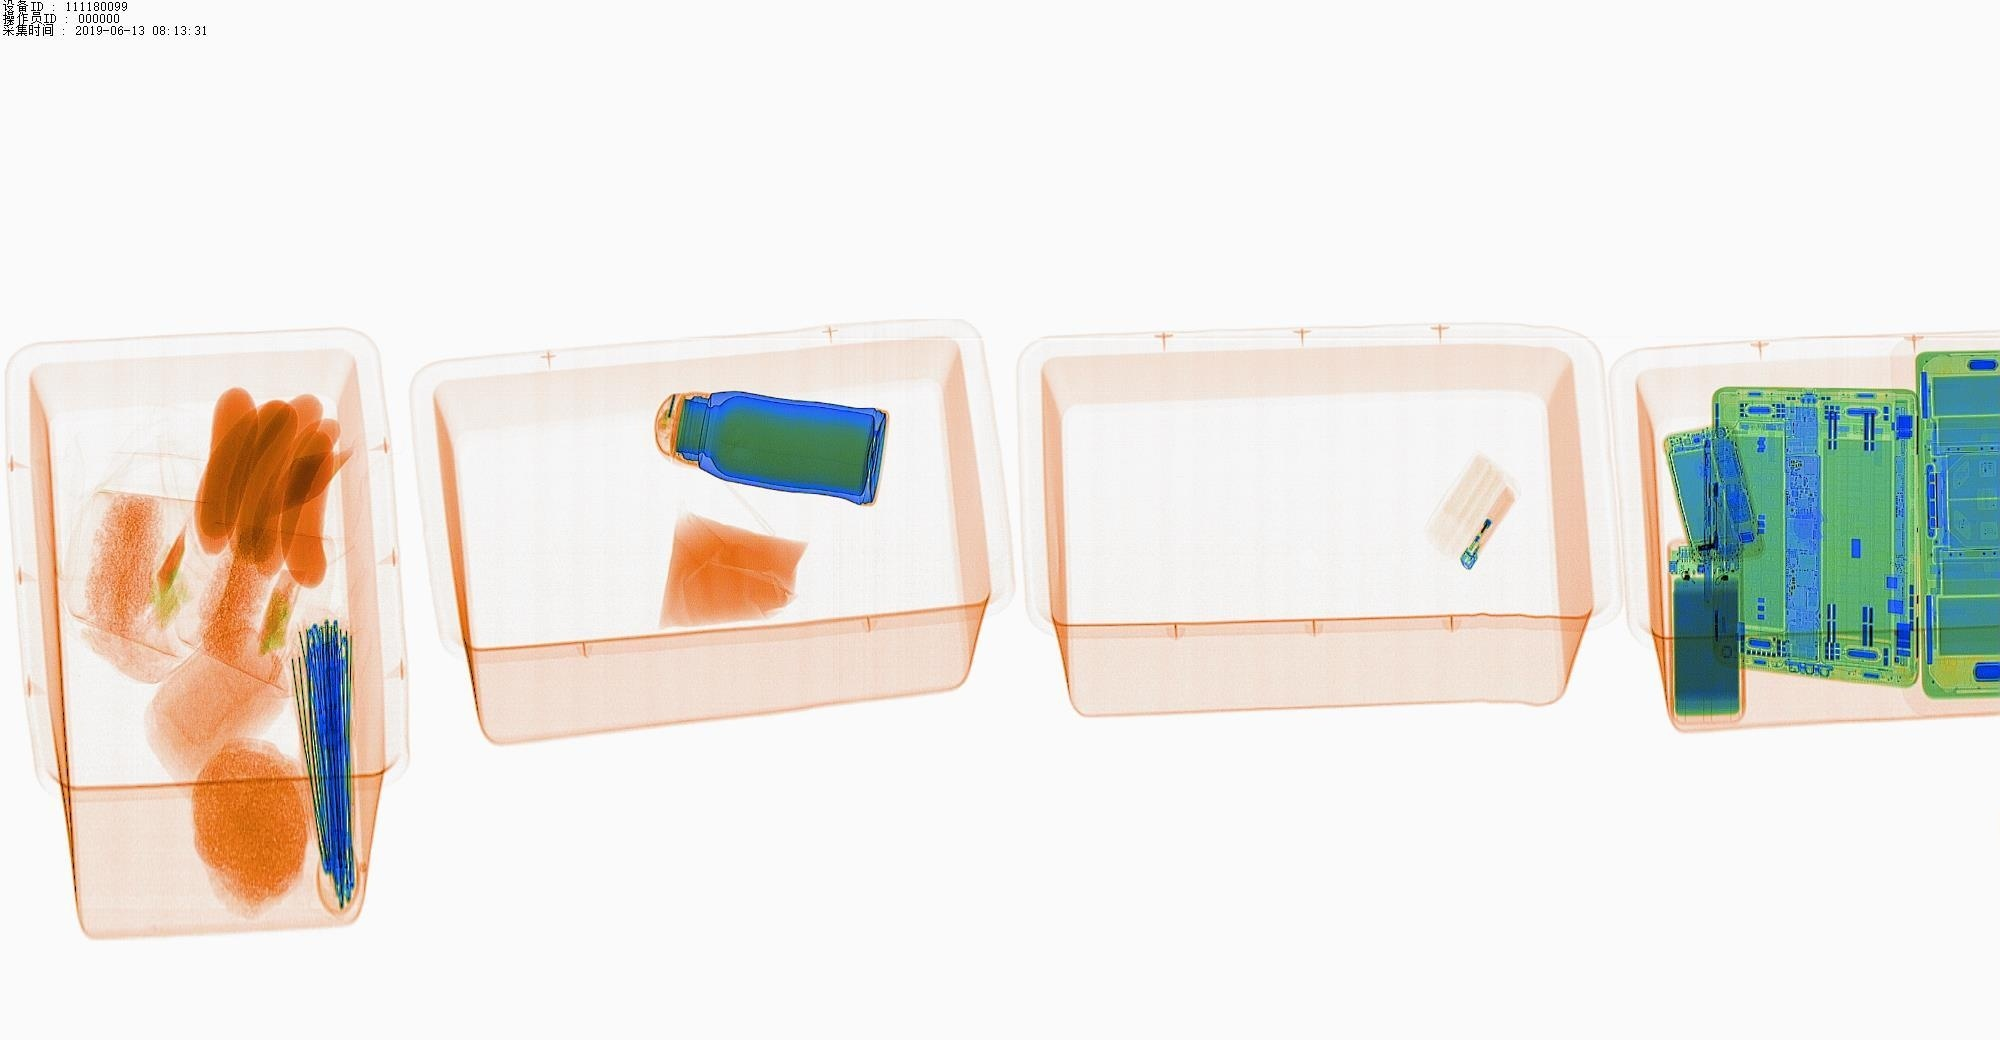NonmetallicFire: (1444, 472, 1530, 582)
